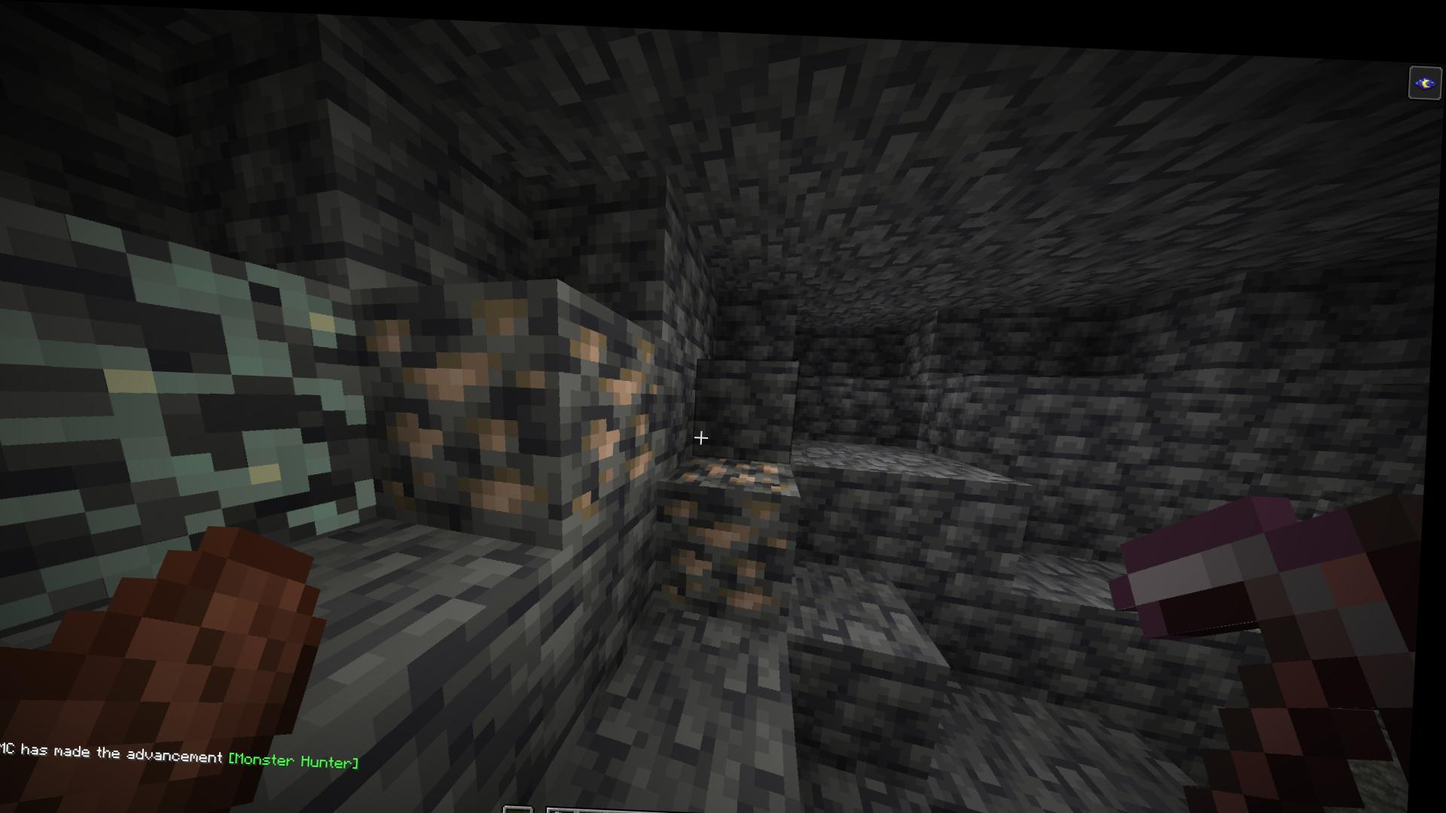iron ore: (357, 257, 668, 544), (659, 448, 805, 610)
